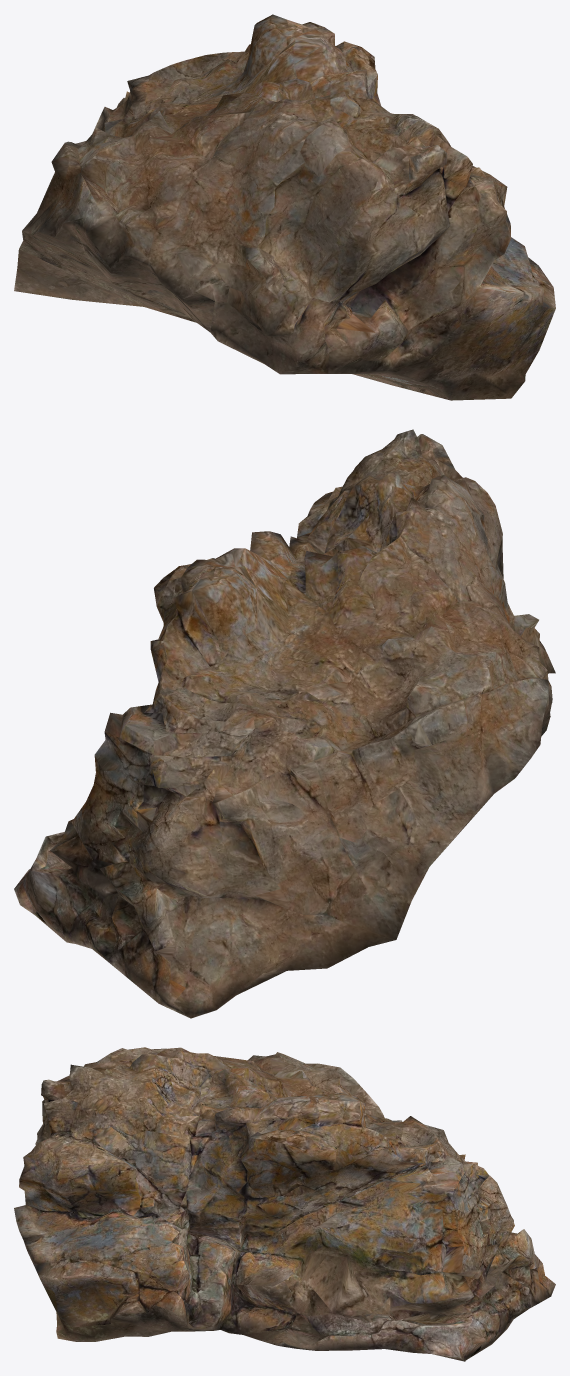
The model's file is scanned-boulder.glb.
3 views of the same model, one above another, from view 1: azimuth 30°, elevation 25°; view 2: azimuth 150°, elevation 25°; view 3: azimuth 270°, elevation 25° (orthographic). The views are drawn at different scales.
Parts seen in each view (by area): view 1: boulder_01; view 2: boulder_01; view 3: boulder_01.
Boxes of the visible parts, x1,y1,x2,y2 form: boulder_01: (14, 14, 555, 400); boulder_01: (14, 429, 555, 1018); boulder_01: (14, 1047, 555, 1361).
Size of the model in its own units: 1.31 by 0.9999 by 1.87.
1 material, 1 textured.
